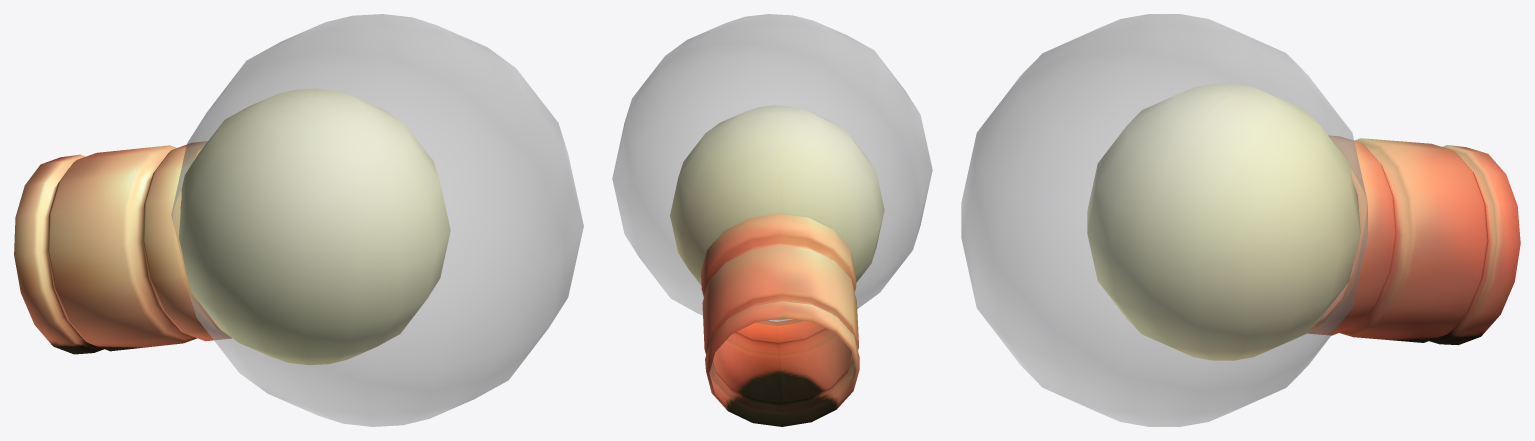
File: dengpao.FBX
3 renders of one model, left to right at view 1: azimuth 30°, elevation 25°; view 2: azimuth 150°, elevation 25°; view 3: azimuth 270°, elevation 25°, orthographic. The views are drawn at different scales.
Parts seen in each view (by area): view 1: dengpao01, dengpao01_01; view 2: dengpao01, dengpao01_01; view 3: dengpao01, dengpao01_01.
Part boxes in pixels (<box>): dengpao01: <box>171,14,583,426</box>; dengpao01_01: <box>14,88,450,365</box>; dengpao01: <box>612,14,932,325</box>; dengpao01_01: <box>670,105,884,426</box>; dengpao01: <box>961,14,1367,426</box>; dengpao01_01: <box>1087,84,1520,360</box>.
Bounding box in the file's own units: 26.83 × 23.58 × 31.6.
